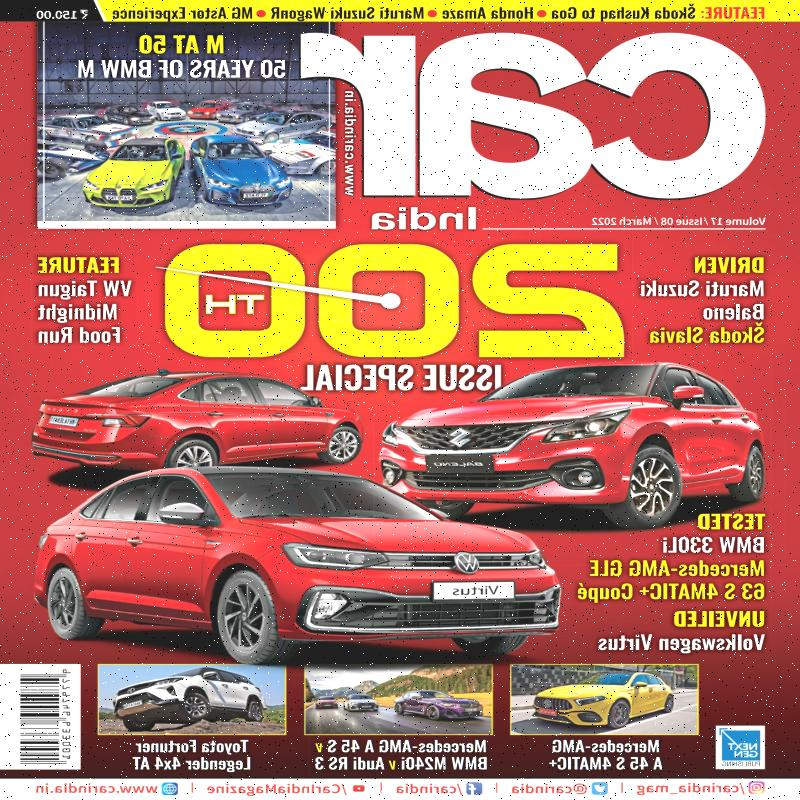car: (46, 448, 555, 650), (373, 344, 767, 487), (46, 369, 338, 469)
